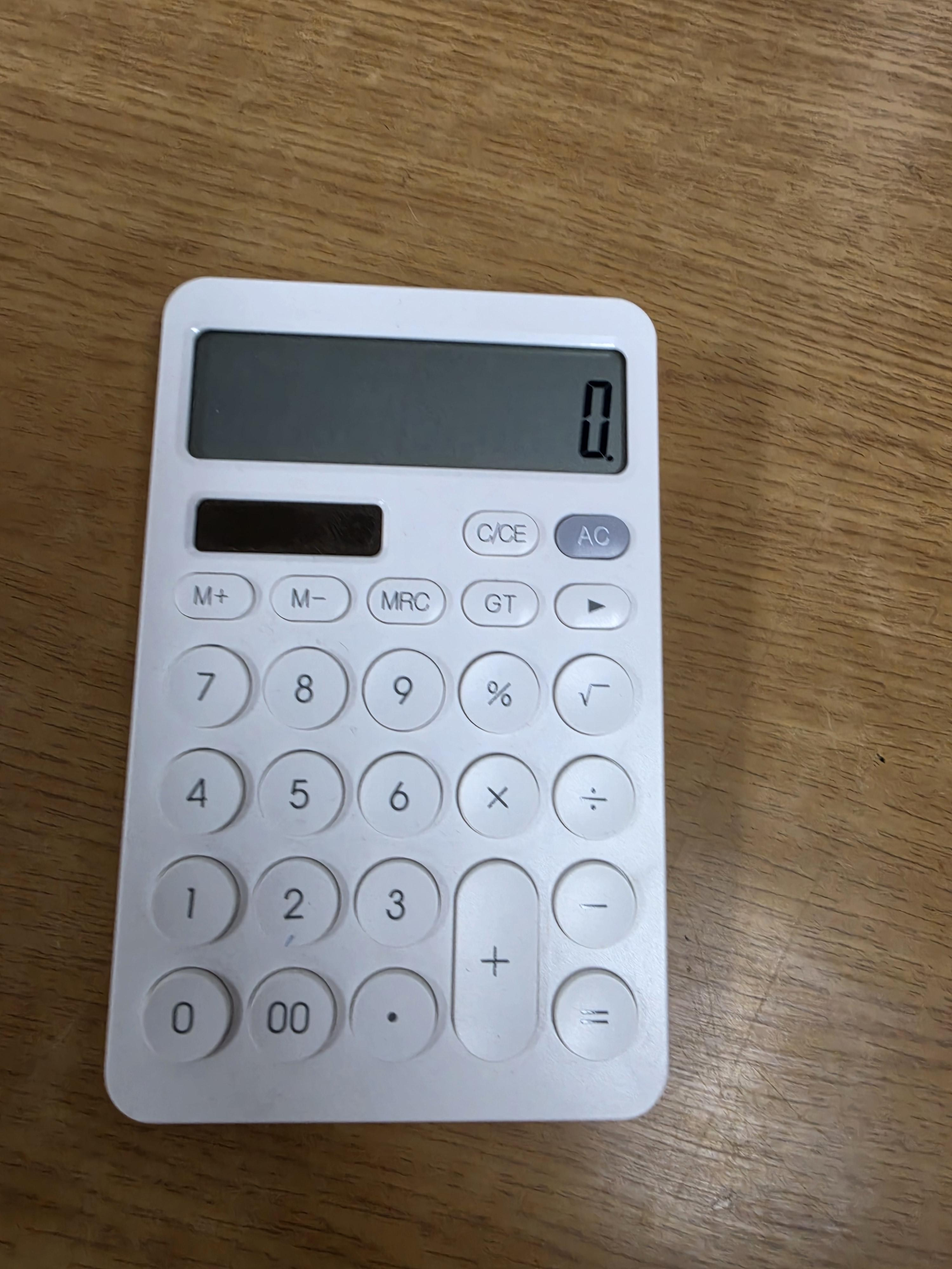calculator: (104, 278, 669, 1124)
